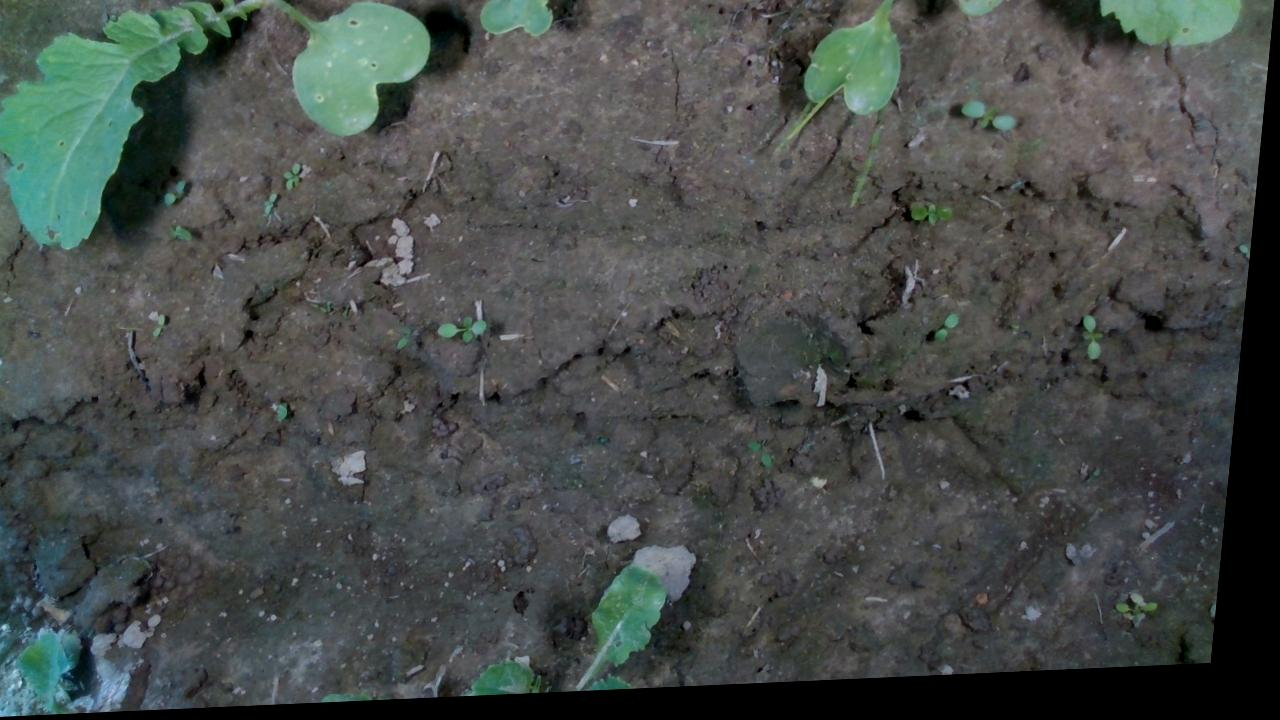weed: (959, 106, 1021, 143), (441, 316, 497, 352), (1124, 600, 1172, 639), (912, 207, 962, 237), (1085, 323, 1114, 371), (752, 446, 784, 479), (937, 319, 967, 353), (165, 176, 191, 209), (166, 222, 200, 246), (399, 324, 425, 355), (283, 163, 306, 195), (264, 194, 282, 220), (157, 313, 174, 340)
